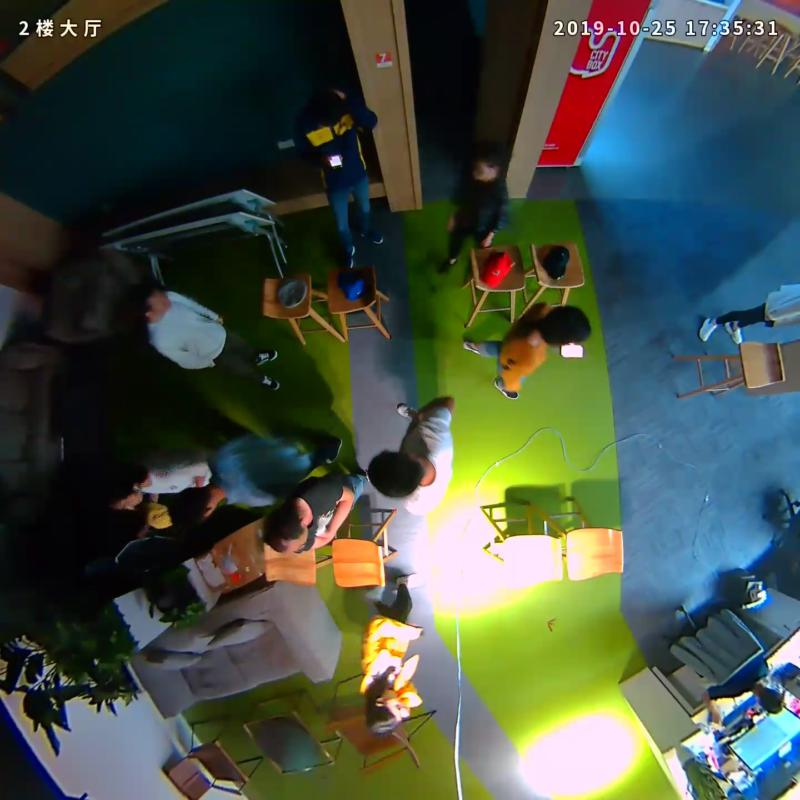head: (368, 451, 424, 499), (264, 506, 308, 555), (541, 305, 591, 347), (99, 465, 144, 511), (167, 487, 217, 528), (128, 279, 172, 320), (365, 691, 405, 736), (466, 140, 503, 182), (308, 90, 343, 126)
